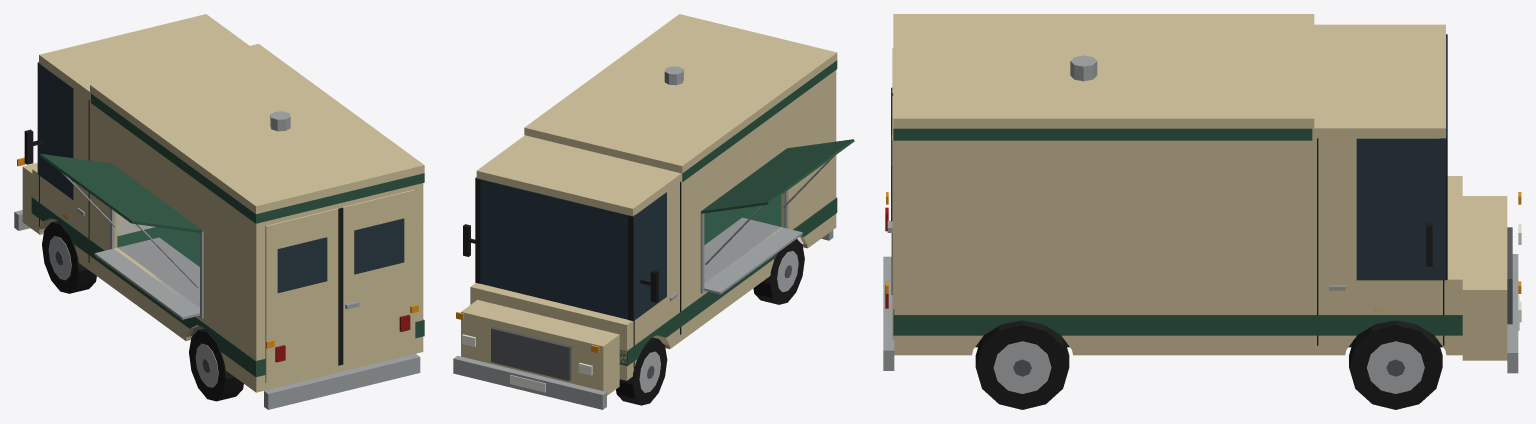
File: food_van.glb
3 renders of one model, left to right at view 1: azimuth 30°, elevation 25°; view 2: azimuth 150°, elevation 25°; view 3: azimuth 270°, elevation 25°, orthographic. The views are drawn at different scales.
Visible parts, largest first — view 1: FoodVan, Awning; view 2: FoodVan, Awning; view 3: FoodVan.
Boxes of the visible parts, x1,y1,x2,y2 form: FoodVan: (14, 14, 424, 409); Awning: (39, 153, 202, 288); FoodVan: (453, 14, 837, 409); Awning: (701, 139, 854, 264); FoodVan: (883, 14, 1521, 409).
Size of the model in its own units: 3.41 by 3.05 by 5.73.
